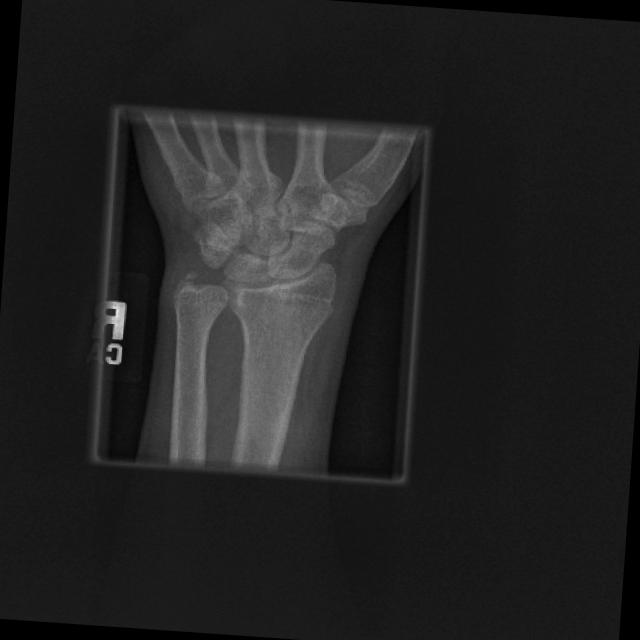fingers positive: (207, 274, 358, 321)
